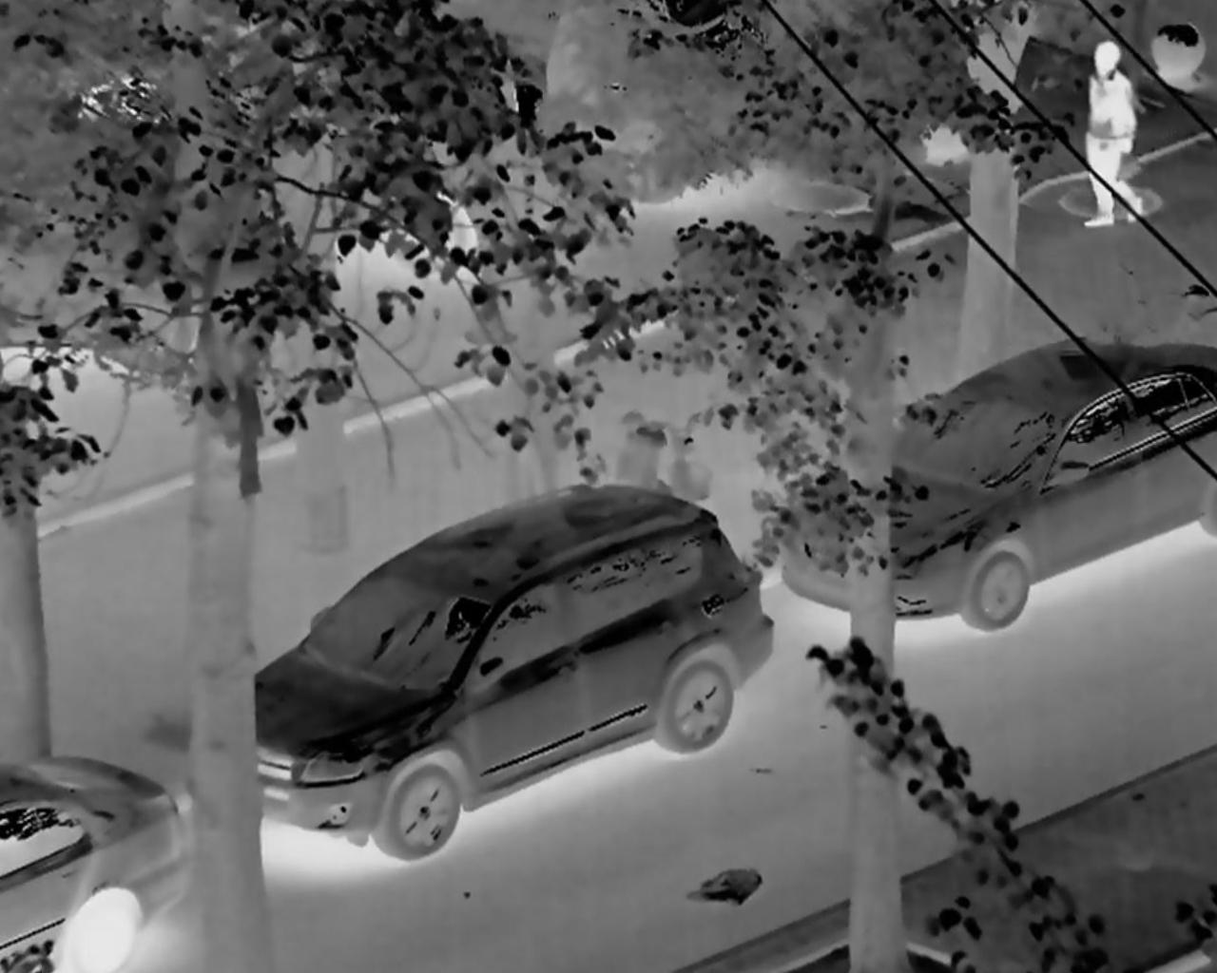person: (1072, 30, 1153, 253)
